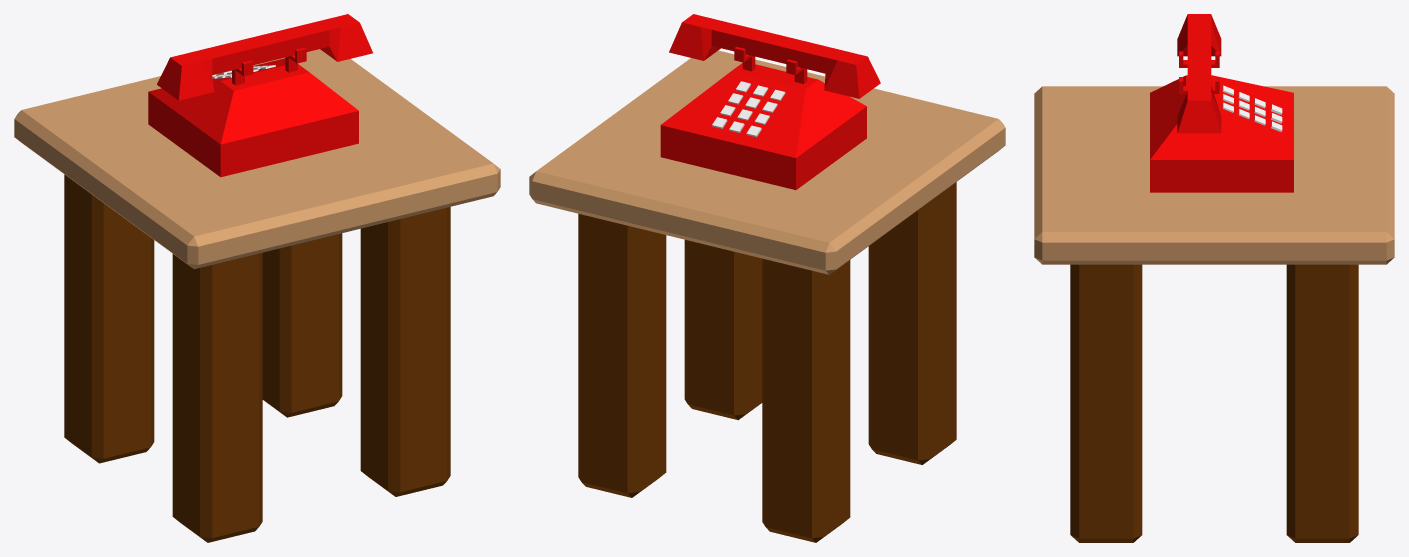
The model's file is Telephone.fbx.
3 views of the same model, side by side, from view 1: azimuth 30°, elevation 25°; view 2: azimuth 150°, elevation 25°; view 3: azimuth 270°, elevation 25° (orthographic). The views are drawn at different scales.
Visible parts, largest first — view 1: Table, Telephone; view 2: Table, Telephone; view 3: Table, Telephone.
Boxes of the visible parts, <box> form: Table: <box>14,49,500,542</box>; Telephone: <box>148,14,372,177</box>; Table: <box>529,50,1005,542</box>; Telephone: <box>660,14,880,189</box>; Table: <box>1034,86,1394,542</box>; Telephone: <box>1150,14,1293,192</box>.
Size of the model in its own units: 100 by 131 by 100.
